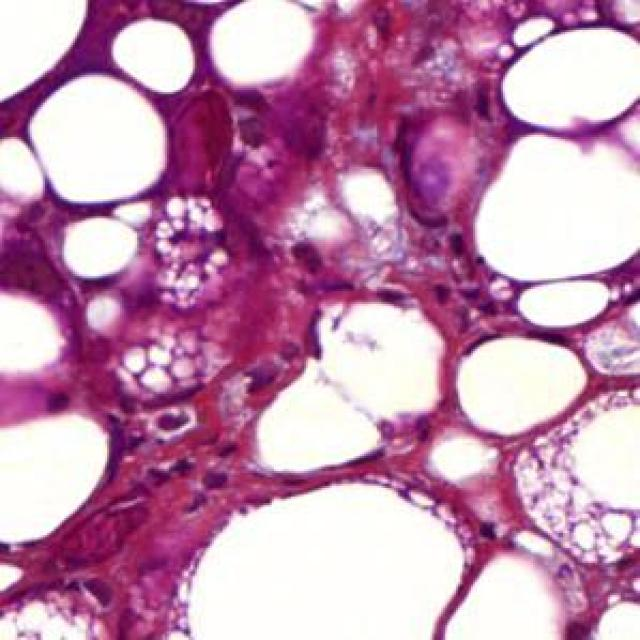steatosis: (452, 334, 599, 437), (103, 13, 201, 94), (62, 212, 146, 278)
